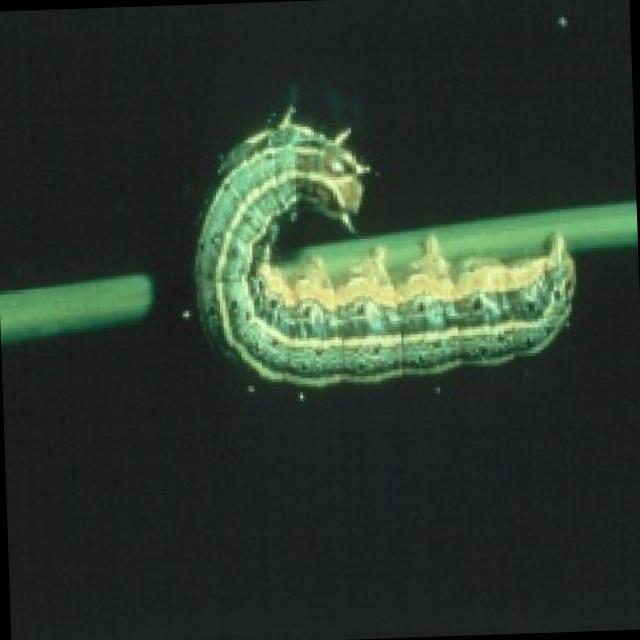armyworm: (158, 75, 590, 432)
